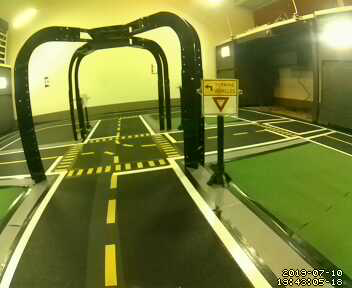Turn Yield: (203, 78, 240, 116)
